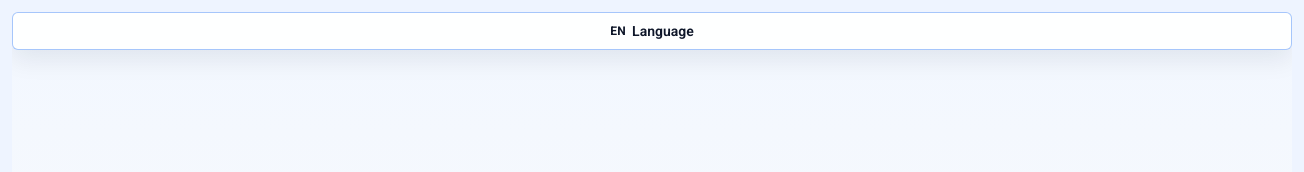
Test: LanguageSwitcher › cycles from en to sr on click
The image size is (1304, 172).
Click the button at (652, 31), box [12, 12, 1292, 50]
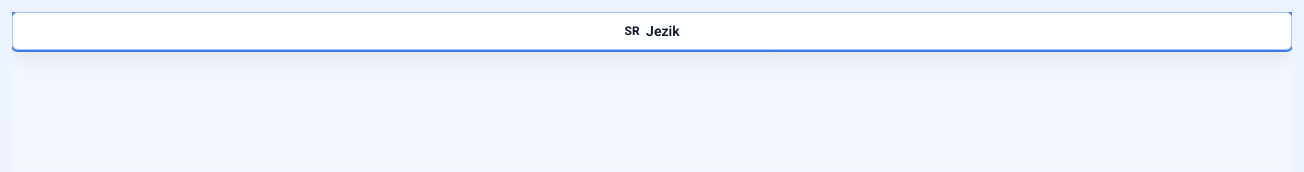
Check: the button with aria-label "Jezik: Srpski" is shown, box [12, 12, 1292, 50]
